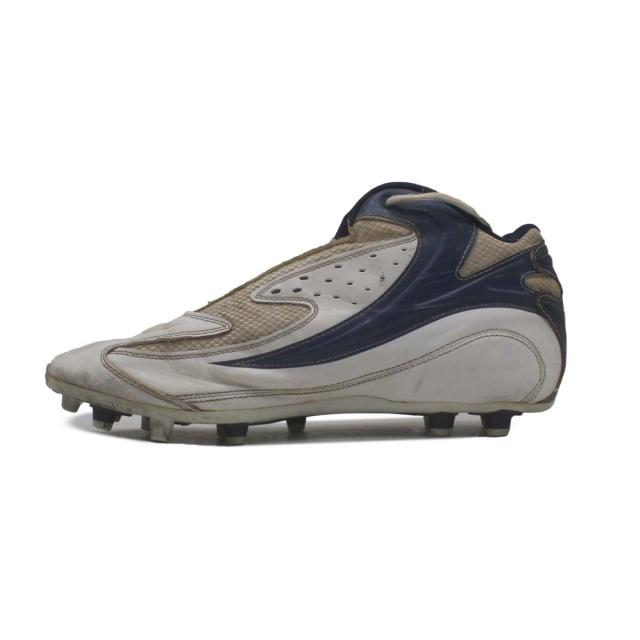heel: (500, 222, 565, 399)
midsole: (53, 380, 555, 440)
uppersole: (46, 181, 519, 412)
